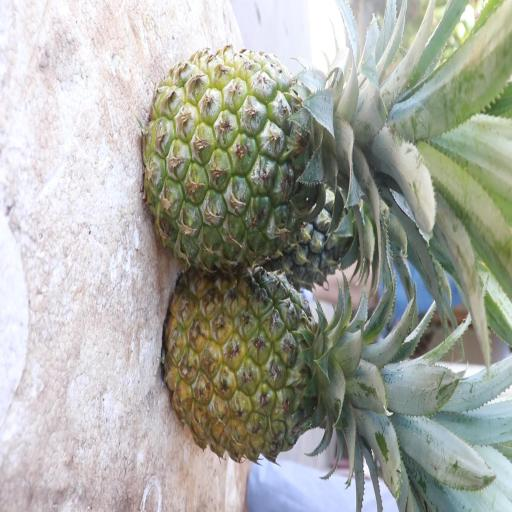------------------------------: (148, 50, 368, 266)
Pineapple - v8 v1: (161, 261, 496, 478)
